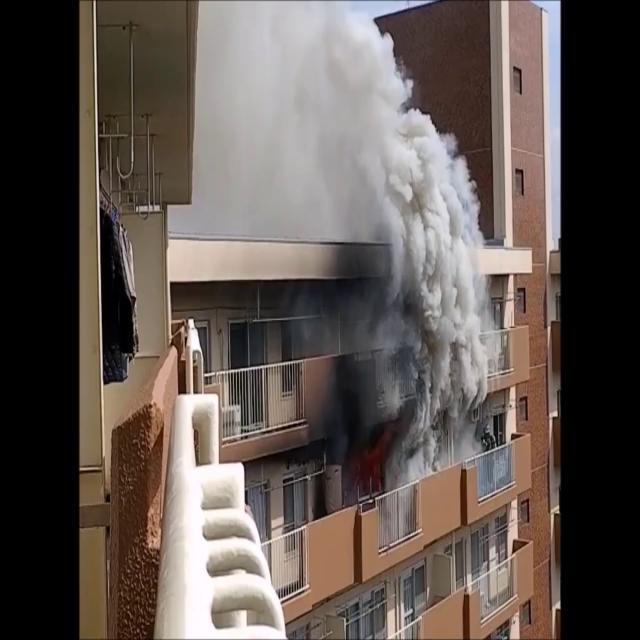Smoke: (199, 2, 501, 458)
